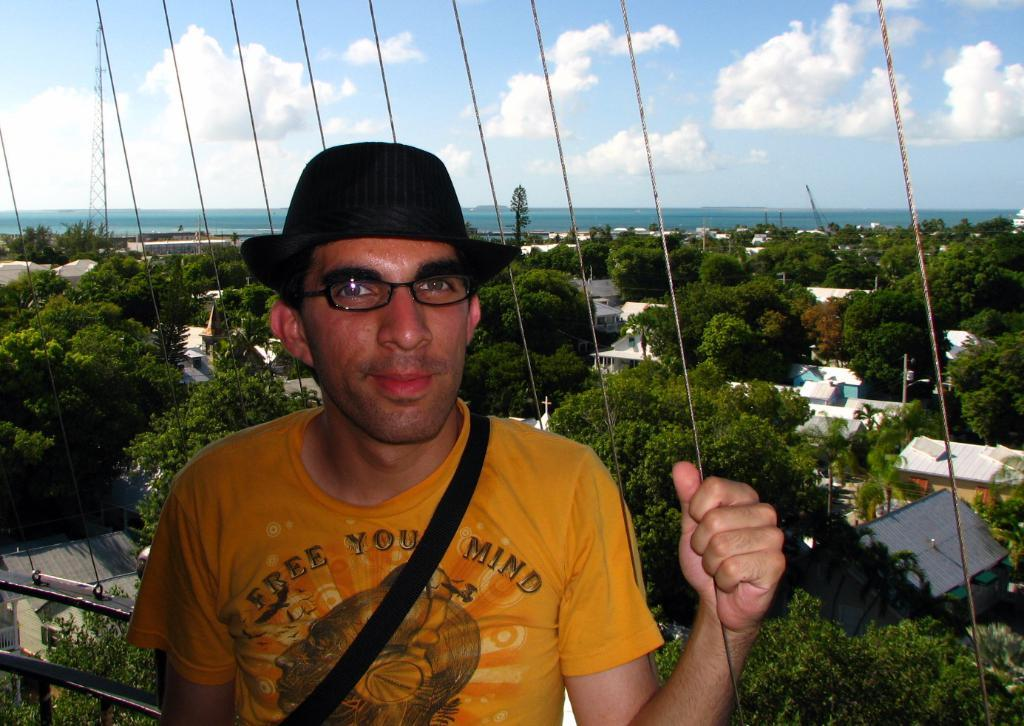Hat: (237, 142, 522, 298)
